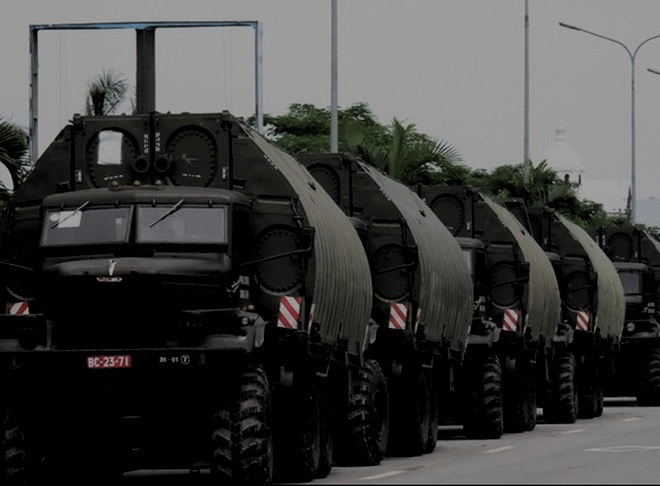plate: (85, 351, 135, 375)
